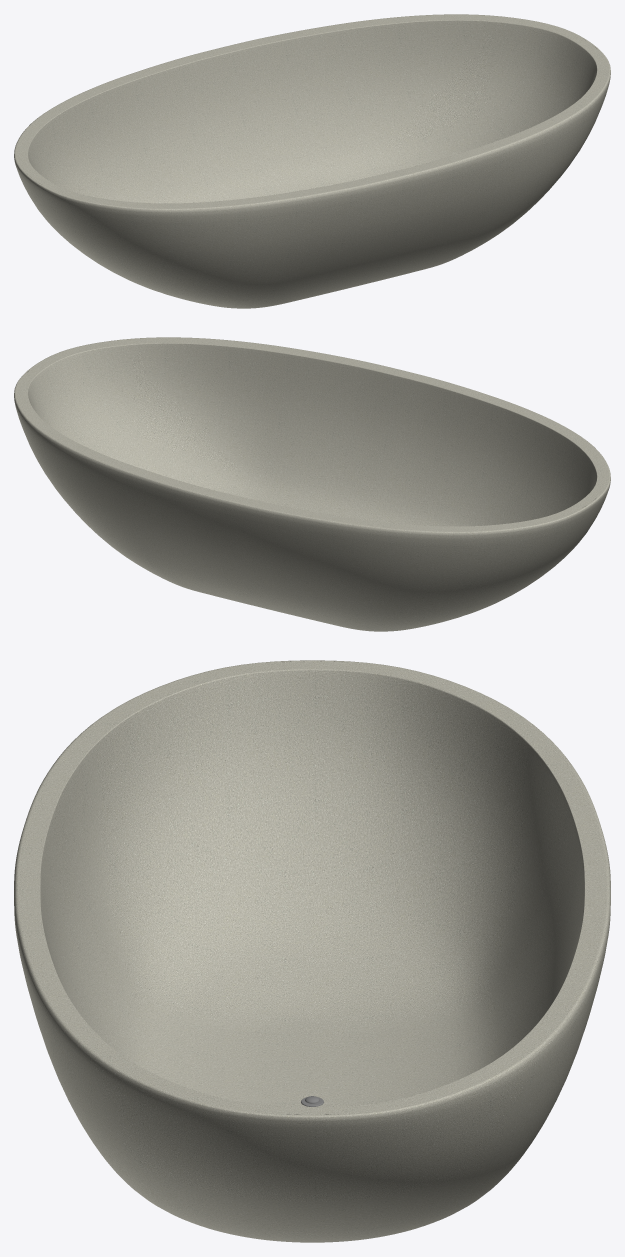
File: BT3_Light_0708.glb
The picture shows the model from 3 angles, top to bottom: view 1: azimuth 30°, elevation 25°; view 2: azimuth 150°, elevation 25°; view 3: azimuth 270°, elevation 25°; orthographic projection. The views are drawn at different scales.
Parts seen in each view (by area): view 1: BT004; view 2: BT004; view 3: BT004.
Part boxes in pixels (box(x1,y1,x2,y2)): BT004: box(14, 14, 610, 308); BT004: box(14, 337, 610, 631); BT004: box(14, 660, 610, 1242).
Bounding box in the file's own units: 1.88 × 0.4622 × 1.04.
Materials: 2 (1 with a texture image).
